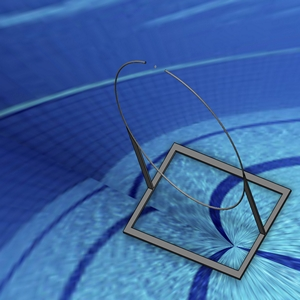circle: (112, 57, 292, 280)
